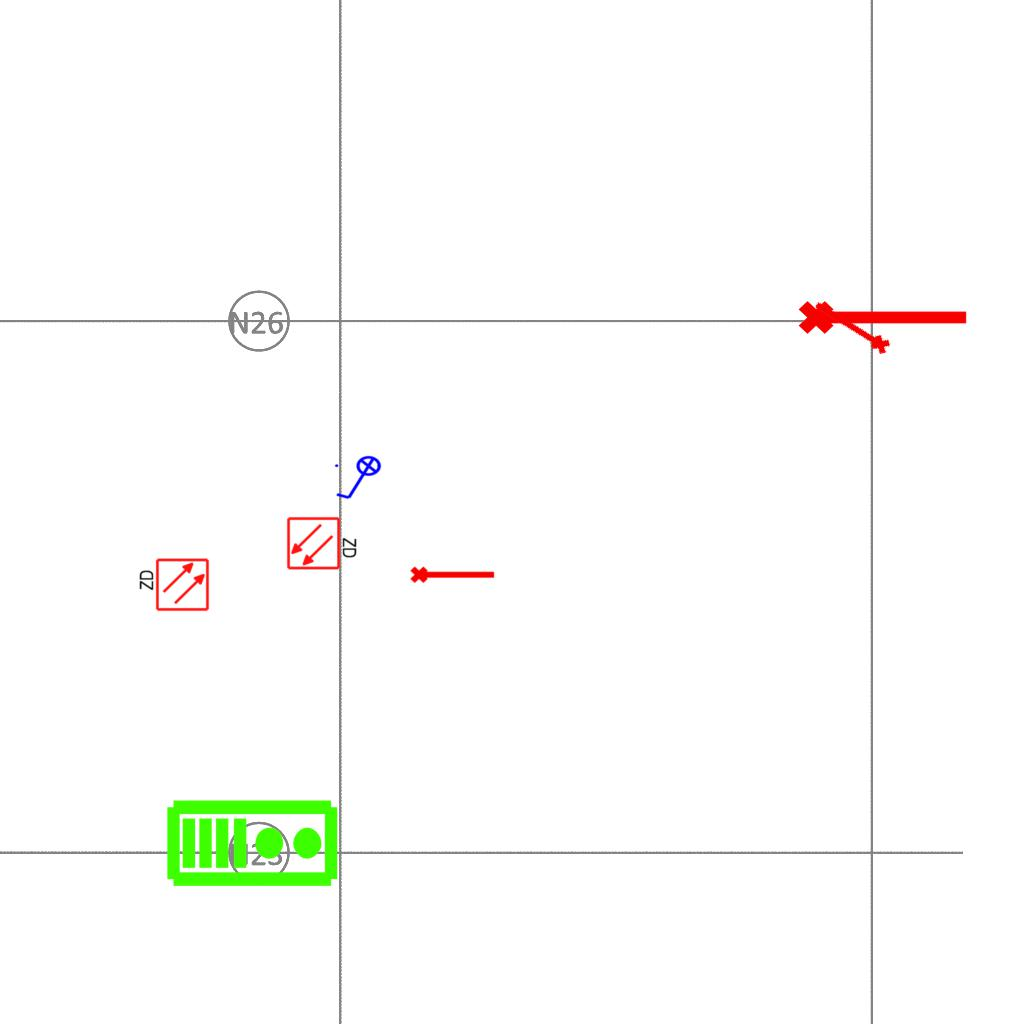ASR_Ansaugoeffnung: (796, 292, 972, 338), (807, 294, 895, 361), (409, 562, 497, 585)
Ausschalter_beleuchtet: (332, 455, 388, 503)
Gegensprechanlage_mit_Video: (165, 794, 341, 889)
ZD_Melder_in_Zwischendecke_mit_Revisionsoeffnung_mind_40_x_40_cm: (286, 514, 360, 571), (136, 557, 210, 614)
